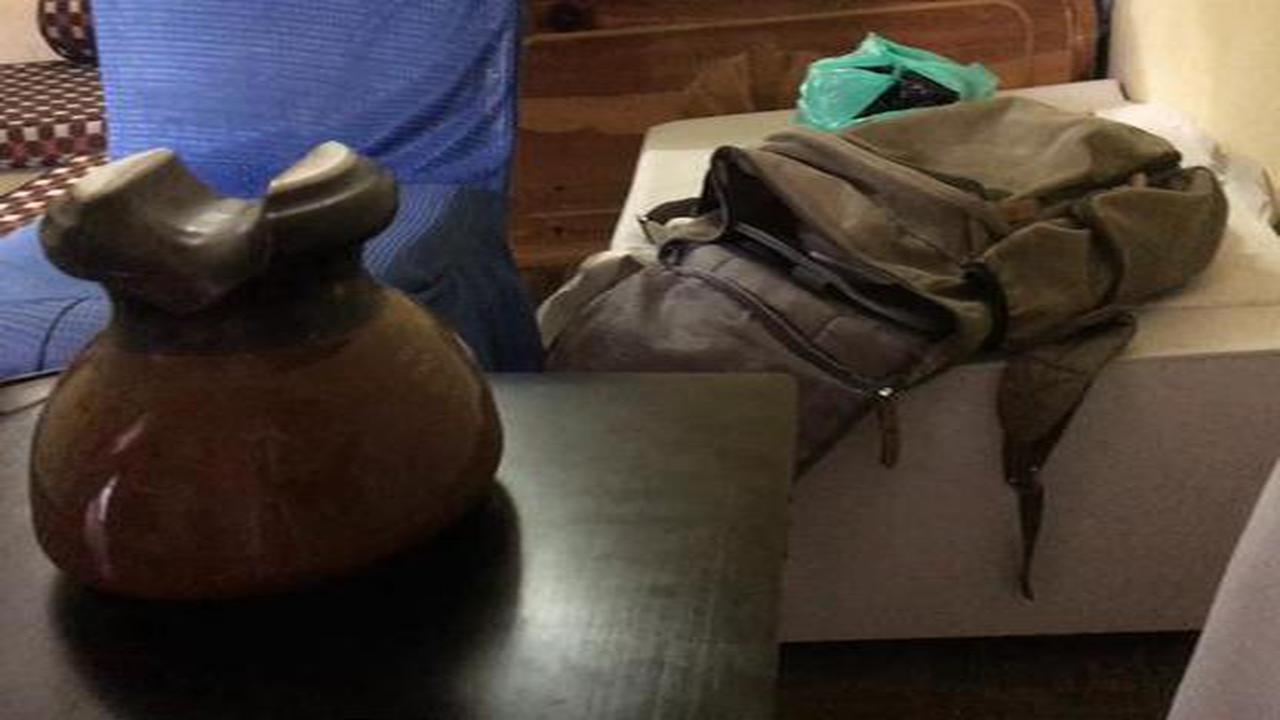insulator_pin: (13, 125, 533, 634)
